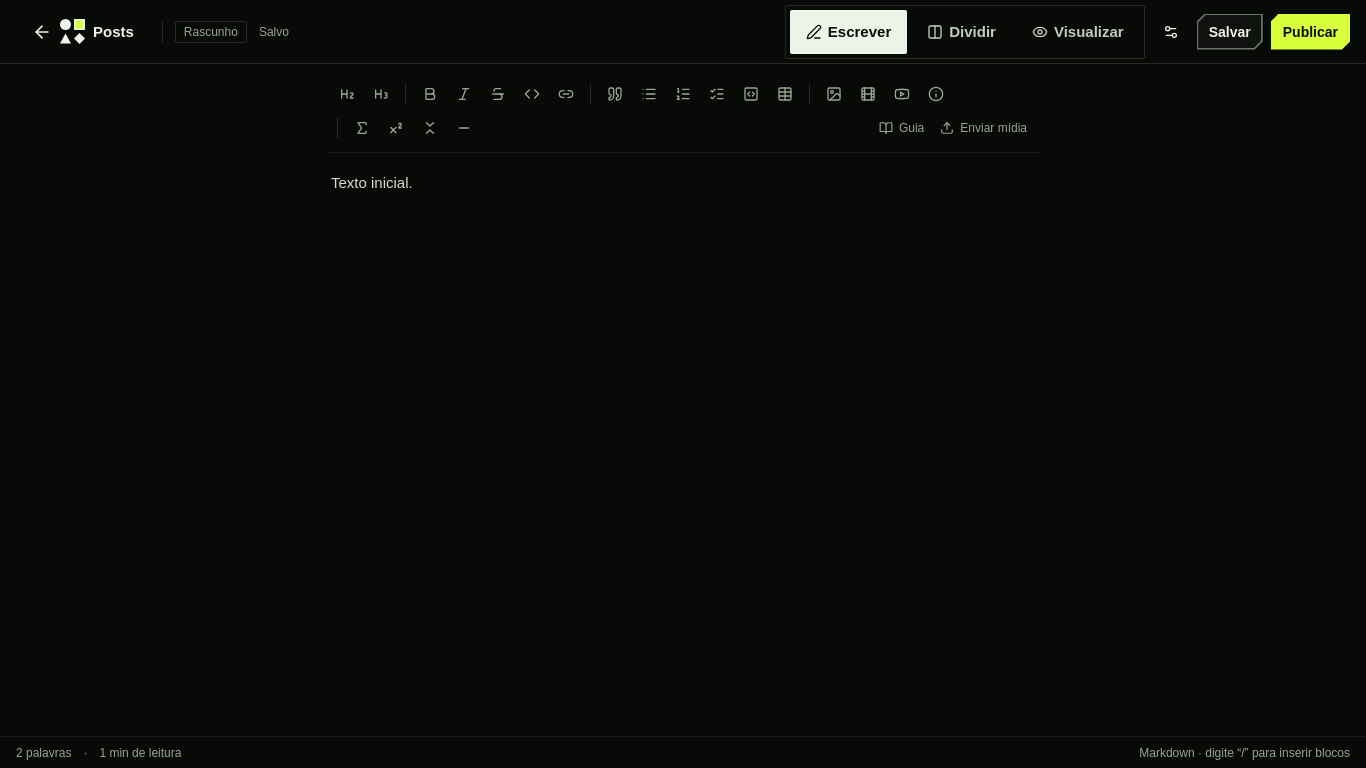
erros ao salvar › conflito de versão: sobrescrever busca a versão atual e salva por cima
This screenshot has width=1366, height=768.
Later steps or results of the test are not shown.
(page scrolled)
Replace the text in the text box named "Conteúdo do post em Markdown" with "Minha versão." at (683, 400), box [331, 169, 1035, 630]
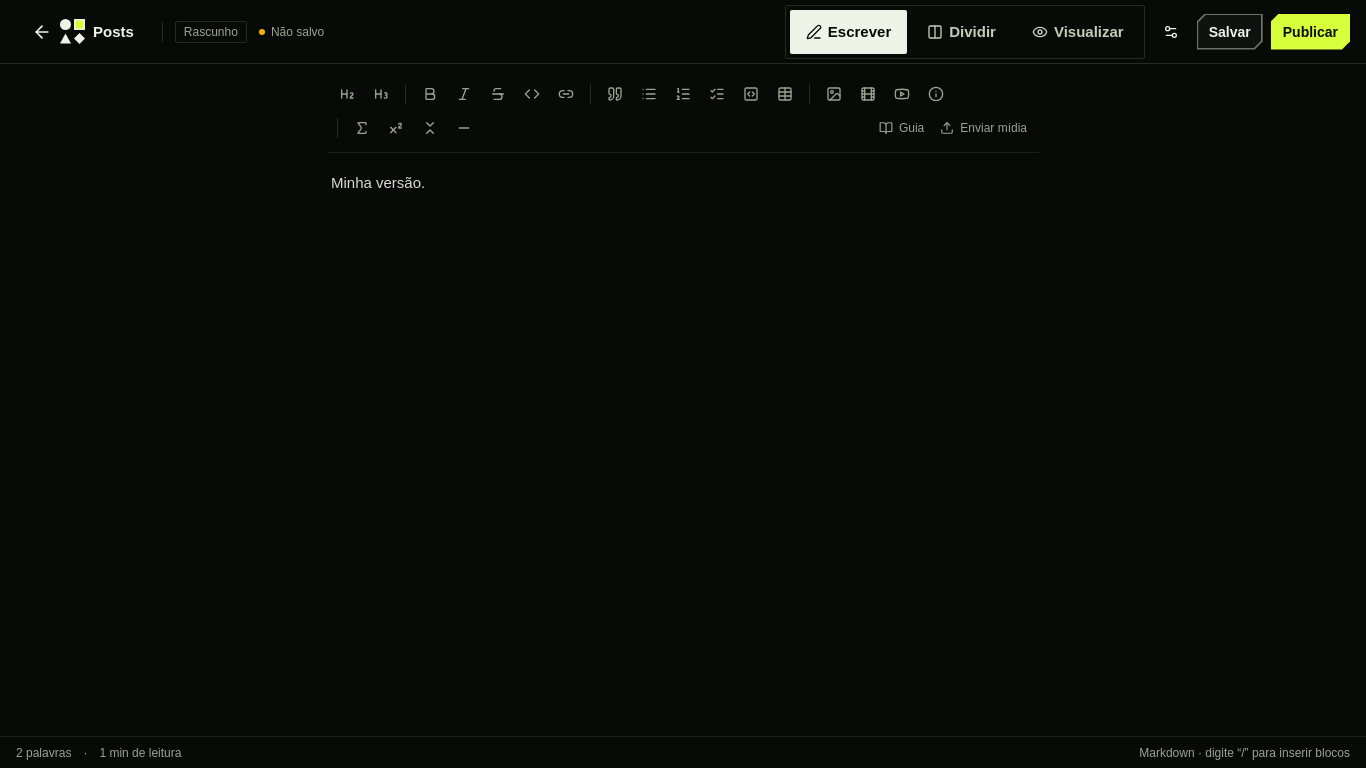
Click the button "Salvar" at (1230, 32), box [1197, 14, 1263, 50]
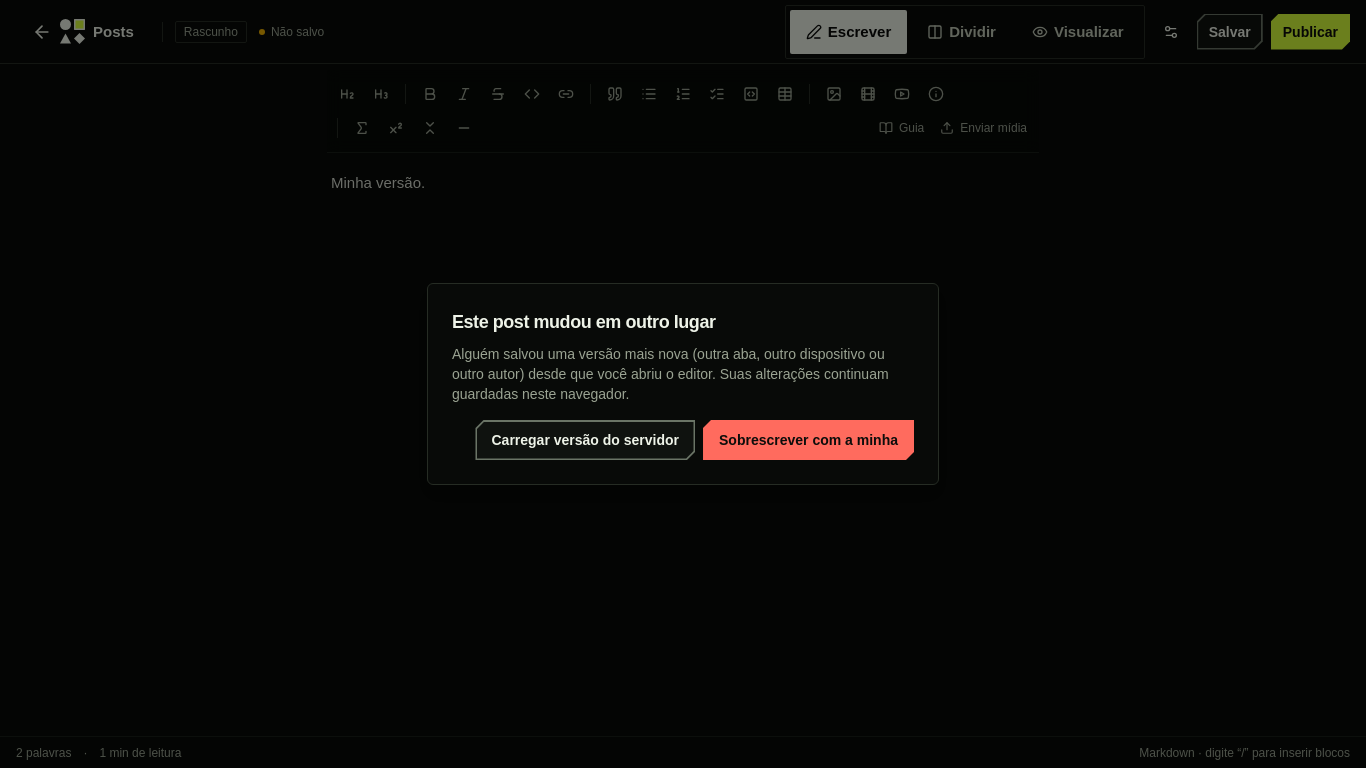
Result: the heading "Este post mudou em outro lugar" is shown at [452, 312, 716, 332]
